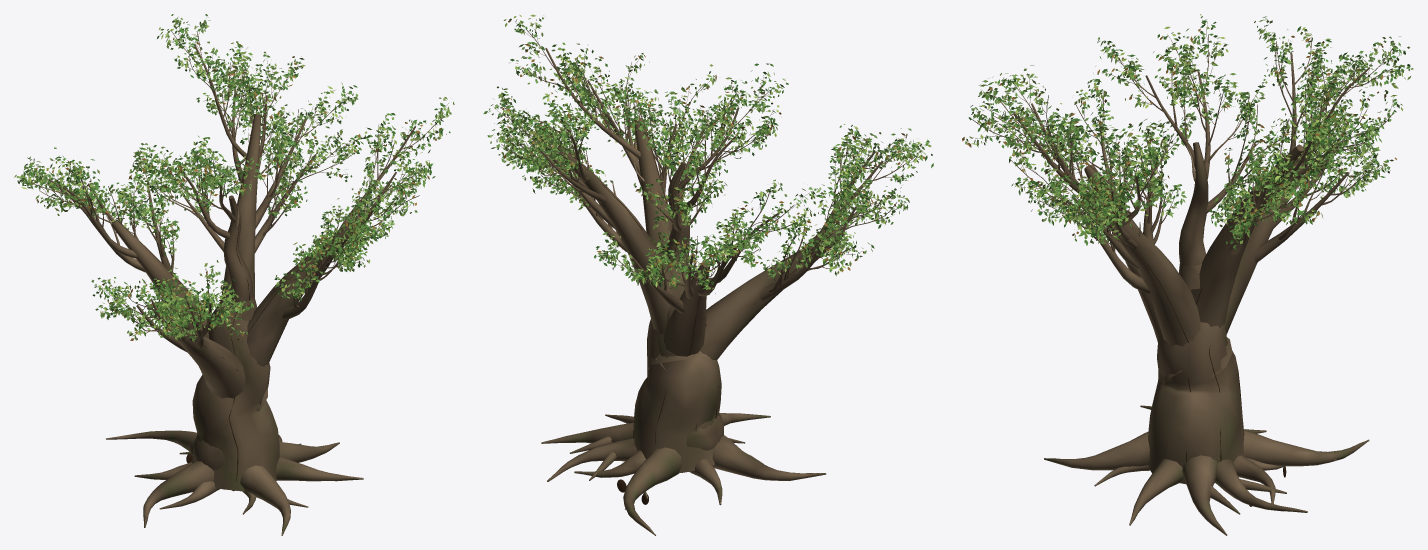
Rendered from ancient_tree_lod1.glb.
The picture shows the model from 3 angles, left to right: view 1: azimuth 30°, elevation 25°; view 2: azimuth 150°, elevation 25°; view 3: azimuth 270°, elevation 25°; orthographic projection. The views are drawn at different scales.
Visible parts, largest first — view 1: AncientTreeWood_LOD1, AncientLeaves_LOD1, FineBranches_LOD1; view 2: AncientTreeWood_LOD1, AncientLeaves_LOD1, FineBranches_LOD1; view 3: AncientTreeWood_LOD1, AncientLeaves_LOD1, FineBranches_LOD1.
Part boxes in pixels (left/top/right/bottom): AncientTreeWood_LOD1: left=31, top=30, right=442, bottom=535; AncientLeaves_LOD1: left=14, top=14, right=454, bottom=341; FineBranches_LOD1: left=27, top=22, right=448, bottom=335; AncientTreeWood_LOD1: left=501, top=29, right=915, bottom=535; AncientLeaves_LOD1: left=483, top=14, right=933, bottom=293; FineBranches_LOD1: left=494, top=19, right=925, bottom=286; AncientTreeWood_LOD1: left=972, top=34, right=1393, bottom=535; AncientLeaves_LOD1: left=962, top=14, right=1413, bottom=249; FineBranches_LOD1: left=972, top=21, right=1400, bottom=251.
Bounding box in the file's own units: 20.89 × 22.81 × 19.89.
